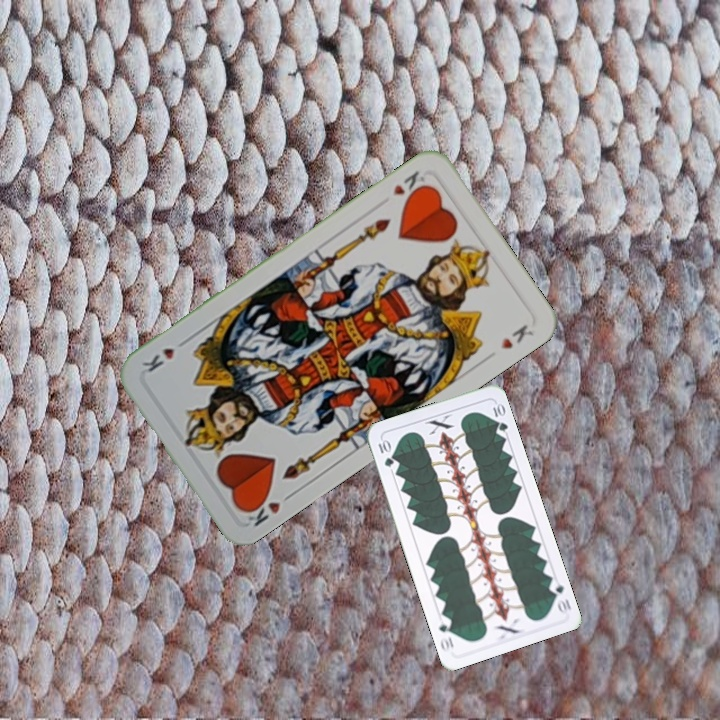G10: (545, 575, 573, 616), (374, 435, 396, 469)
HK: (240, 488, 297, 529), (388, 166, 432, 204)
